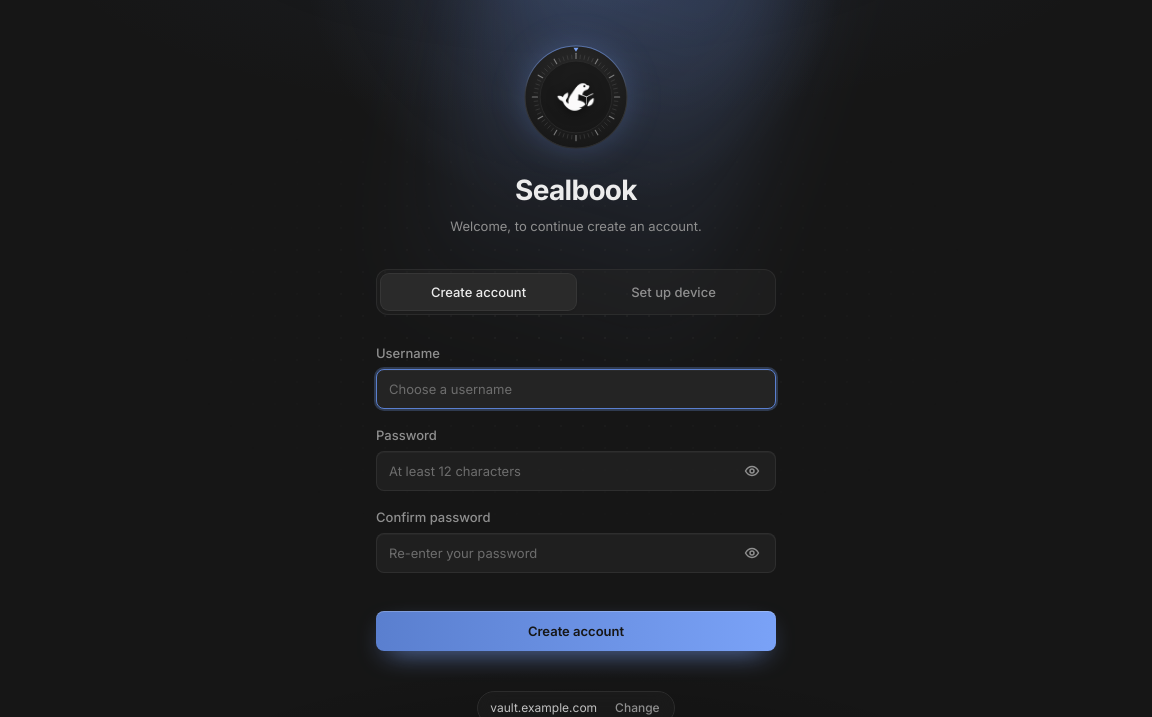
Scenario: the recovery screen › asks for all 24 words when fewer are entered
The image size is (1152, 717).
Click the tab "Set up device" at (674, 292), box [576,274,771,310]
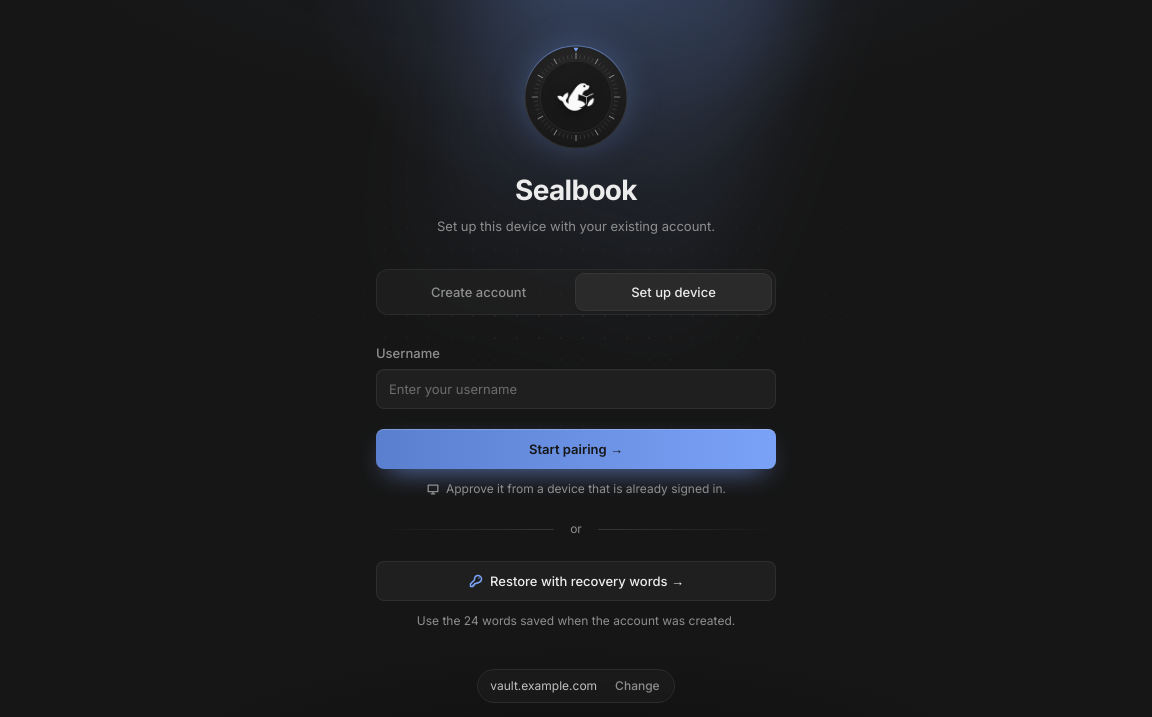
Click the button "Restore with recovery words →" at (576, 581), box [376,561,776,601]
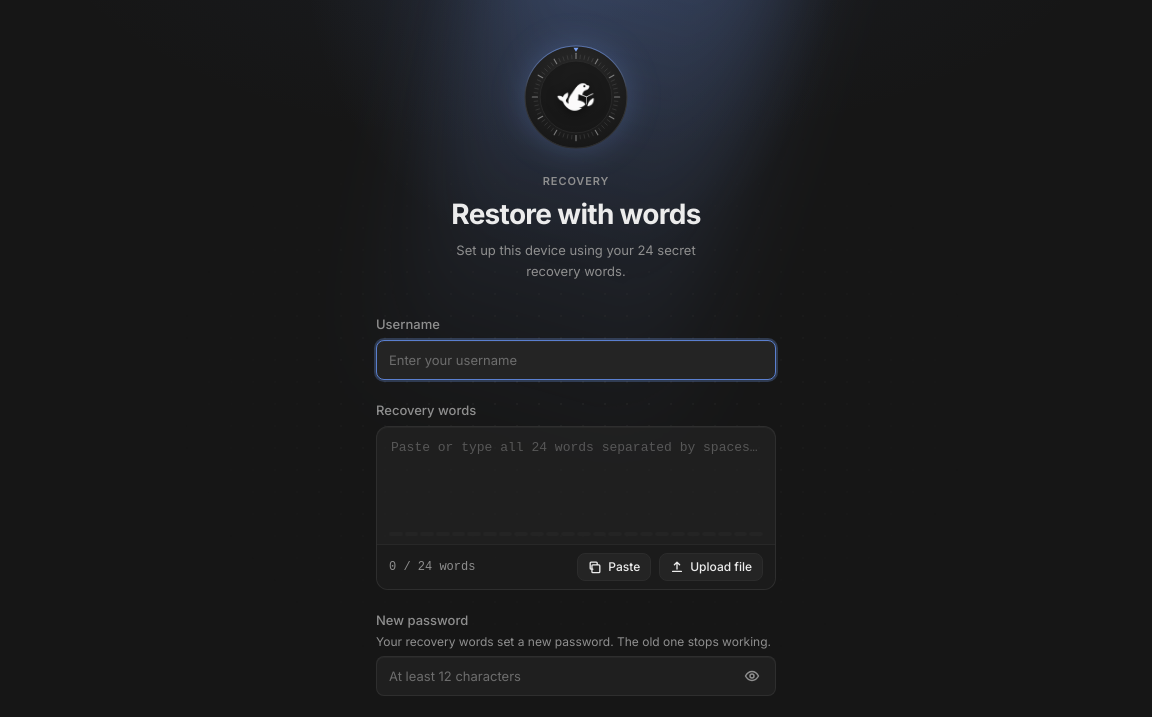
Type "ada" into the field labelled "Username" at (576, 360), box [376,340,776,380]
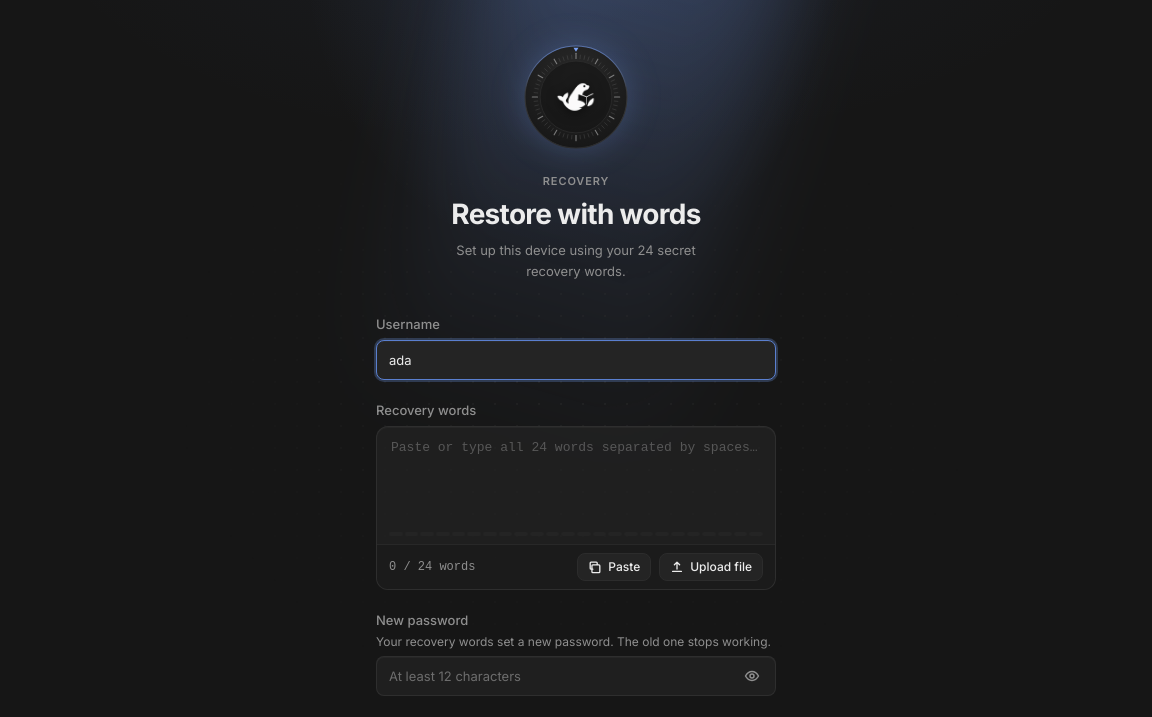
Type "a new password" into the password field labelled "New password" at (576, 676), box [376,656,776,696]
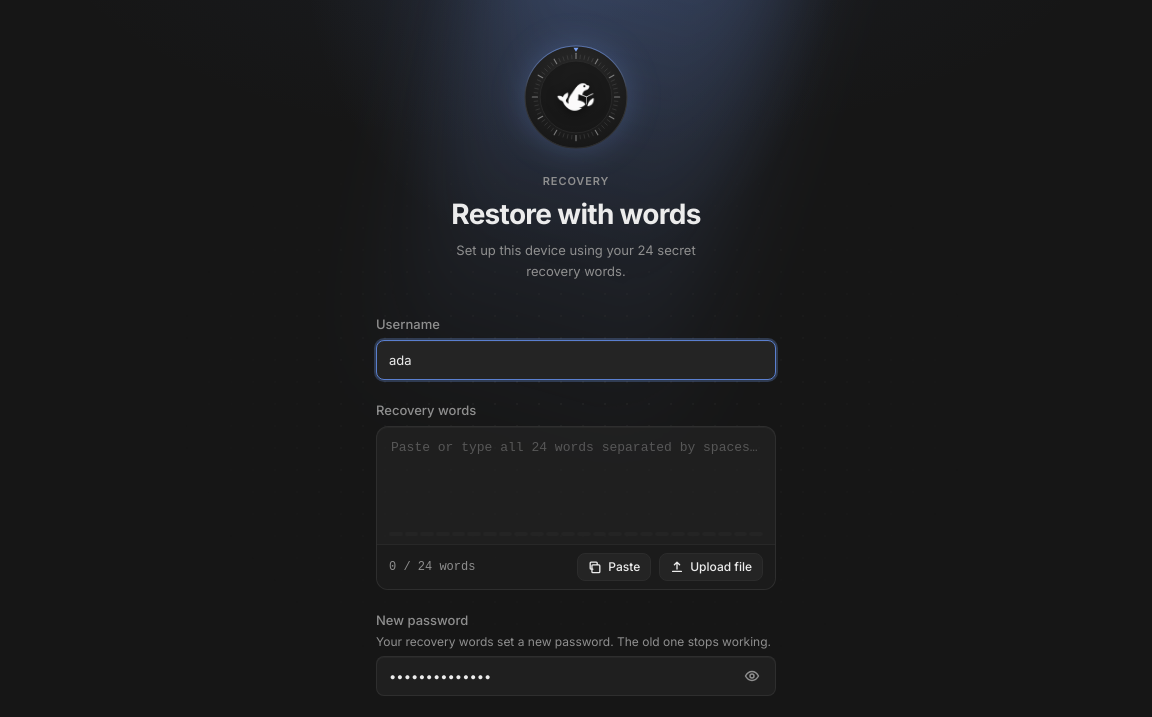
Type "abandon ability able" into the text box labelled "Recovery words" at (576, 480), box [377,427,775,532]
(page scrolled)
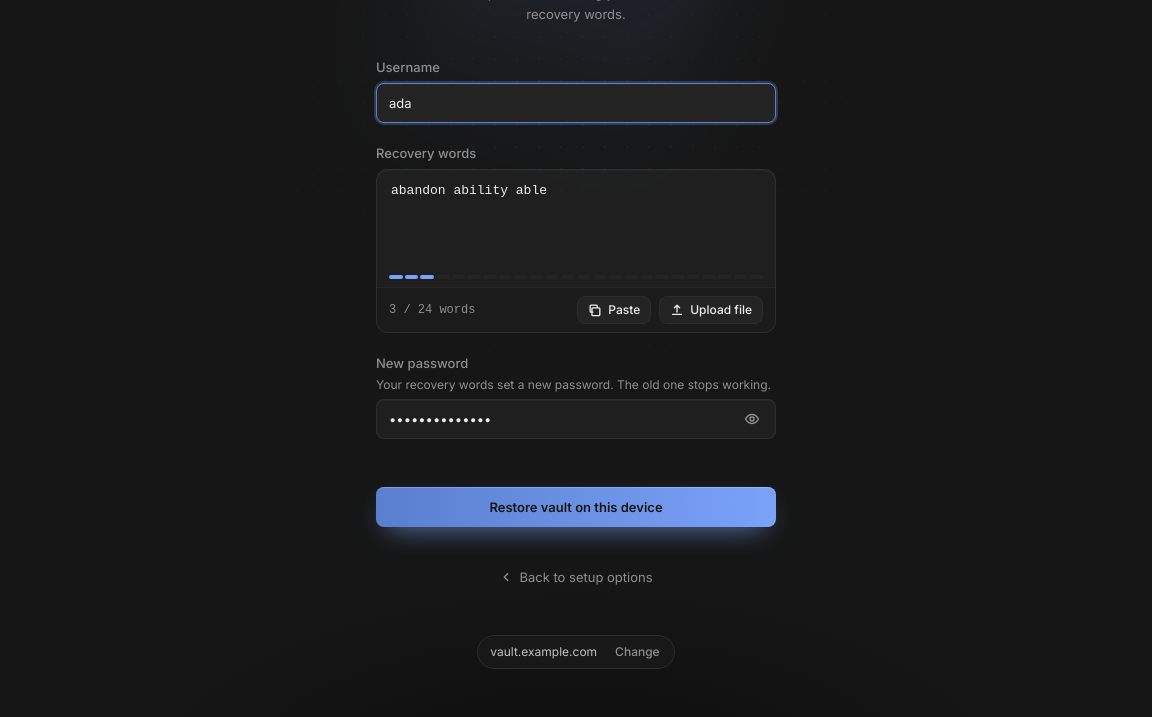
Click the button "Restore vault on this device" at (576, 507), box [376,487,776,527]
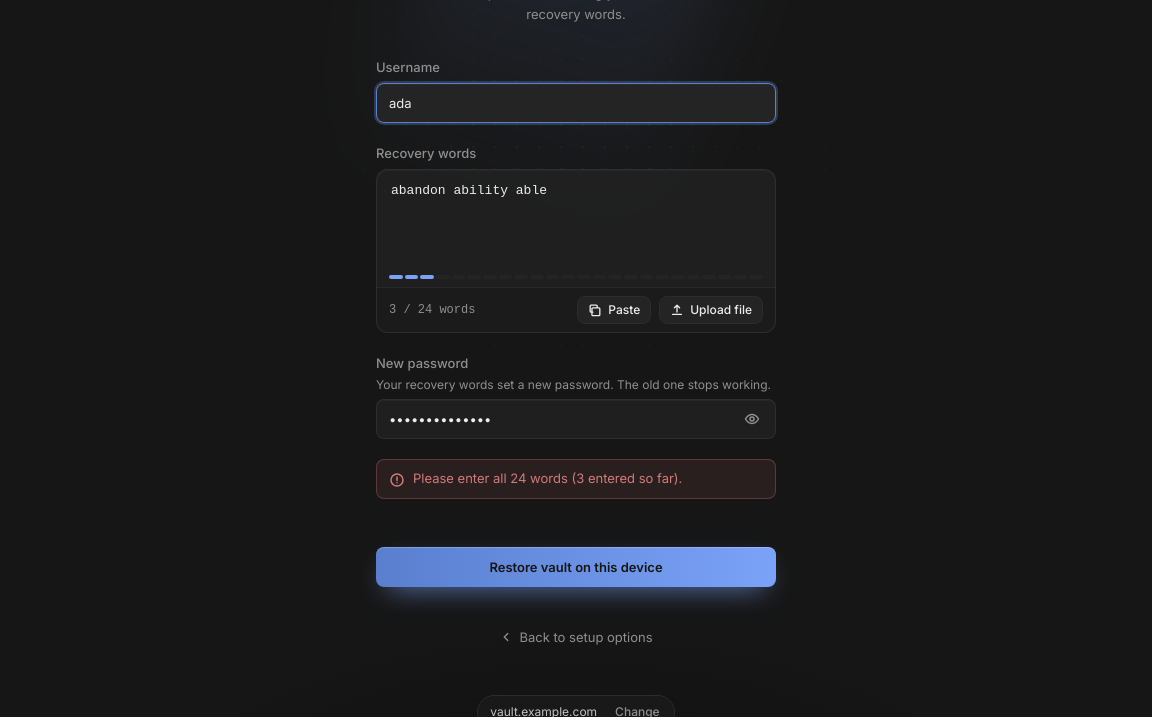
Now the text "Please enter all 24 words (3 entered so far)." is shown, box [413,470,682,488]
